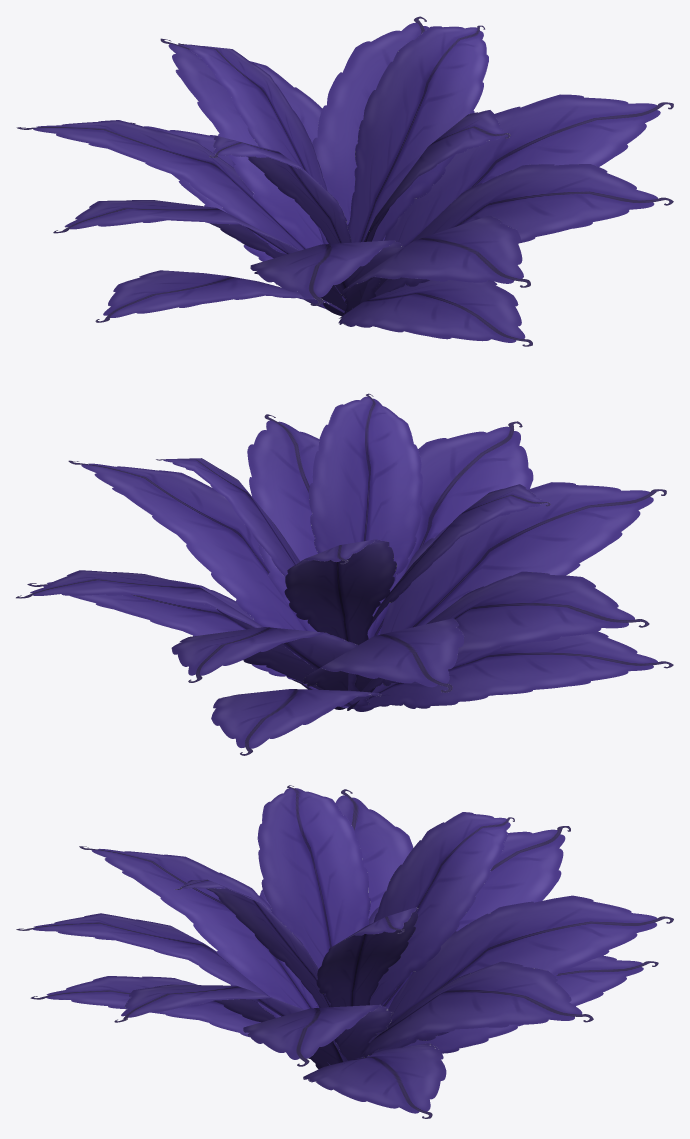
File: Bush1 1.fbx
3 views of the same model, one above another, from view 1: azimuth 30°, elevation 25°; view 2: azimuth 150°, elevation 25°; view 3: azimuth 270°, elevation 25° (orthographic). The views are drawn at different scales.
Visible parts, largest first — view 1: Circle.176; view 2: Circle.176; view 3: Circle.176.
Boxes of the visible parts, bbox=[...] form: Circle.176: bbox=[16, 16, 673, 346]; Circle.176: bbox=[16, 393, 673, 755]; Circle.176: bbox=[16, 785, 673, 1118].
Size of the model in its own units: 3.67 by 1.37 by 3.68.
Materials: 1 (1 with a texture image).
